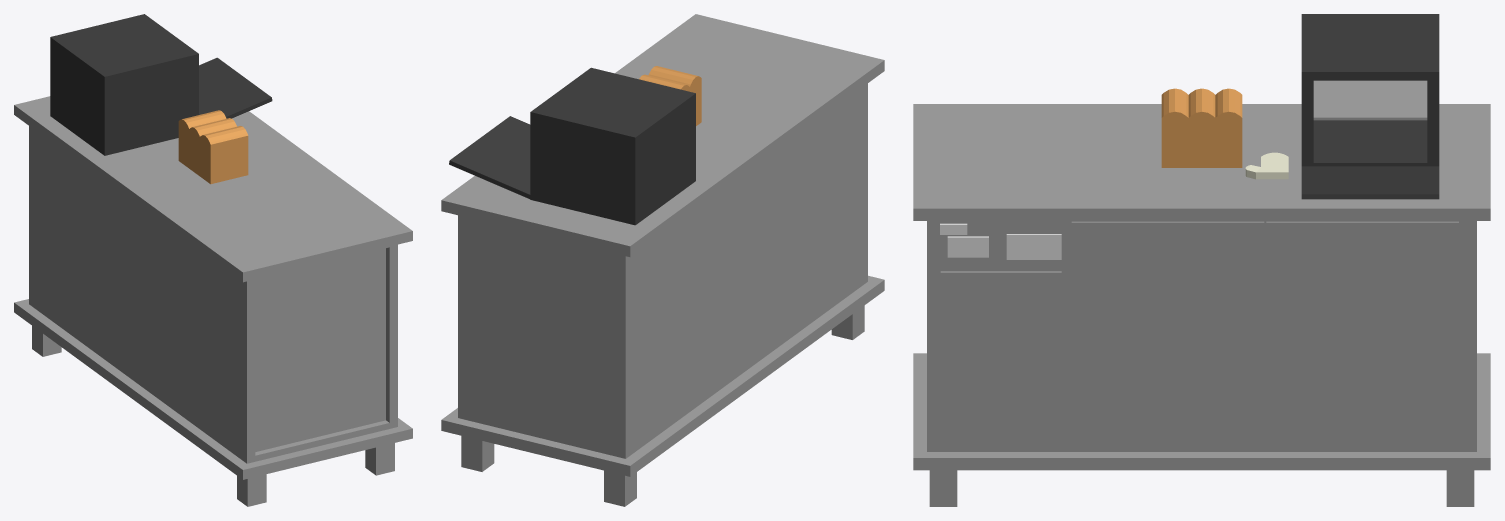
File: BakeryPreparationTable.glb
3 renders of one model, left to right at view 1: azimuth 30°, elevation 25°; view 2: azimuth 150°, elevation 25°; view 3: azimuth 270°, elevation 25°, orthographic. The views are drawn at different scales.
Parts seen in each view (by area): view 1: Cube; view 2: Cube; view 3: Cube.
Boxes of the visible parts, x1,y1,x2,y2 form: Cube: (14,14,412,506); Cube: (441,14,884,506); Cube: (913,14,1490,506).
Bounding box in the file's own units: 9.72 × 16.25 × 21.
